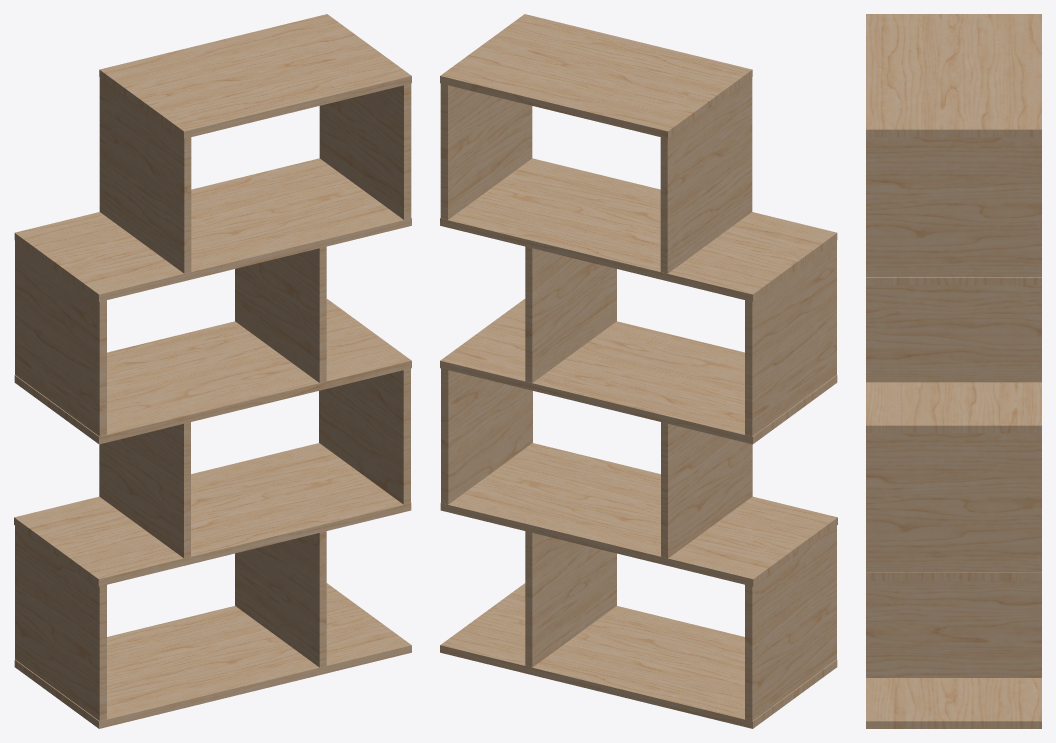
File: Bookshelf.fbx
The picture shows the model from 3 angles, left to right: view 1: azimuth 30°, elevation 25°; view 2: azimuth 150°, elevation 25°; view 3: azimuth 270°, elevation 25°; orthographic projection. The views are drawn at different scales.
Parts seen in each view (by area): view 1: polySurface1068; view 2: polySurface1068; view 3: polySurface1068.
Part boxes in pixels (box(x1,y1,x2,y2)): polySurface1068: box(14, 14, 411, 728); polySurface1068: box(440, 14, 837, 728); polySurface1068: box(866, 14, 1041, 728).
Size of the model in its own units: 0.7582 by 1.33 by 0.3548.
Materials: 1 (1 with a texture image).
